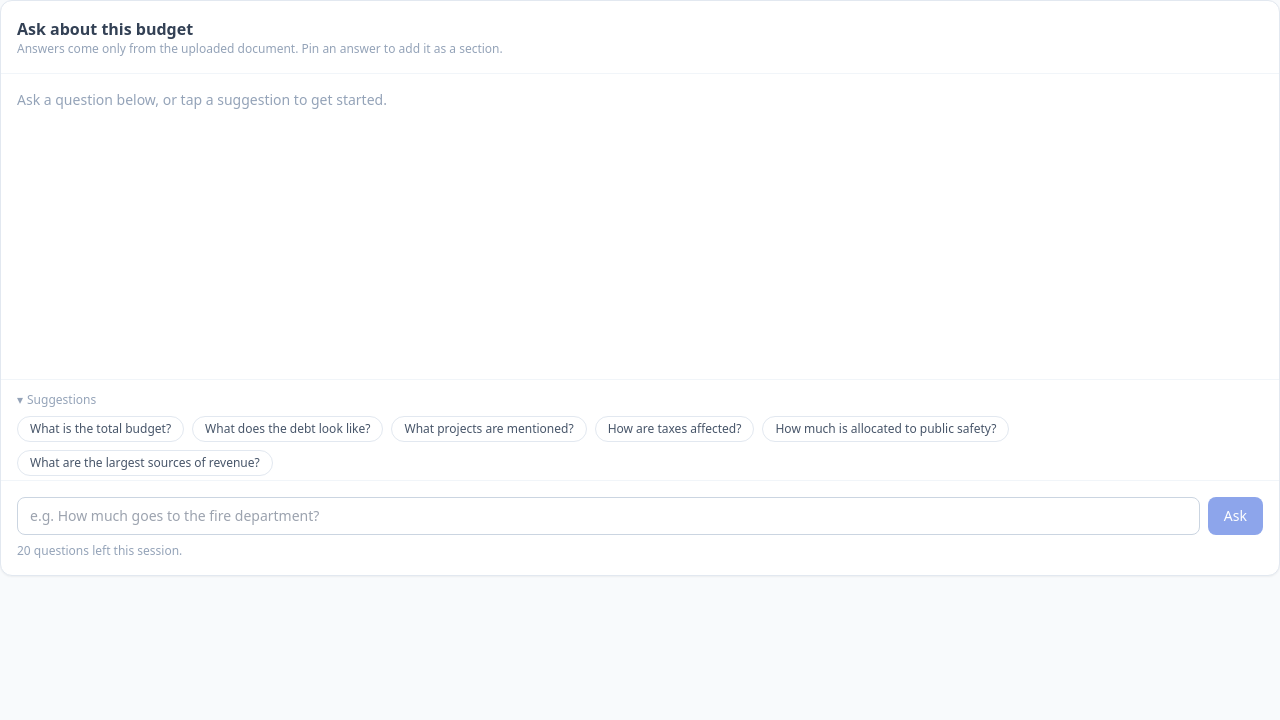
Scenario: ChatPanel › submits a question and renders the grounded answer
Type "What is the total?" into the field named "Ask a question about the budget" at (608,516), box [17, 497, 1200, 535]
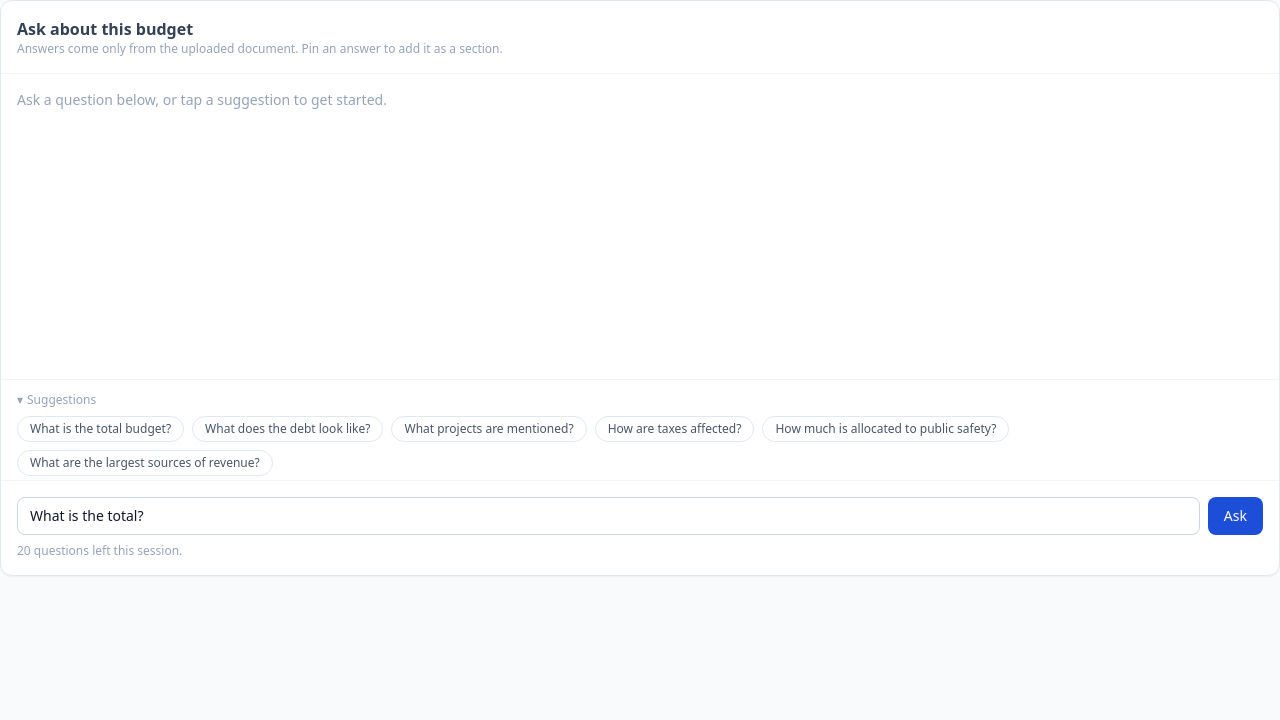
Click the button "Ask" at (1235,516), box [1208, 497, 1263, 535]
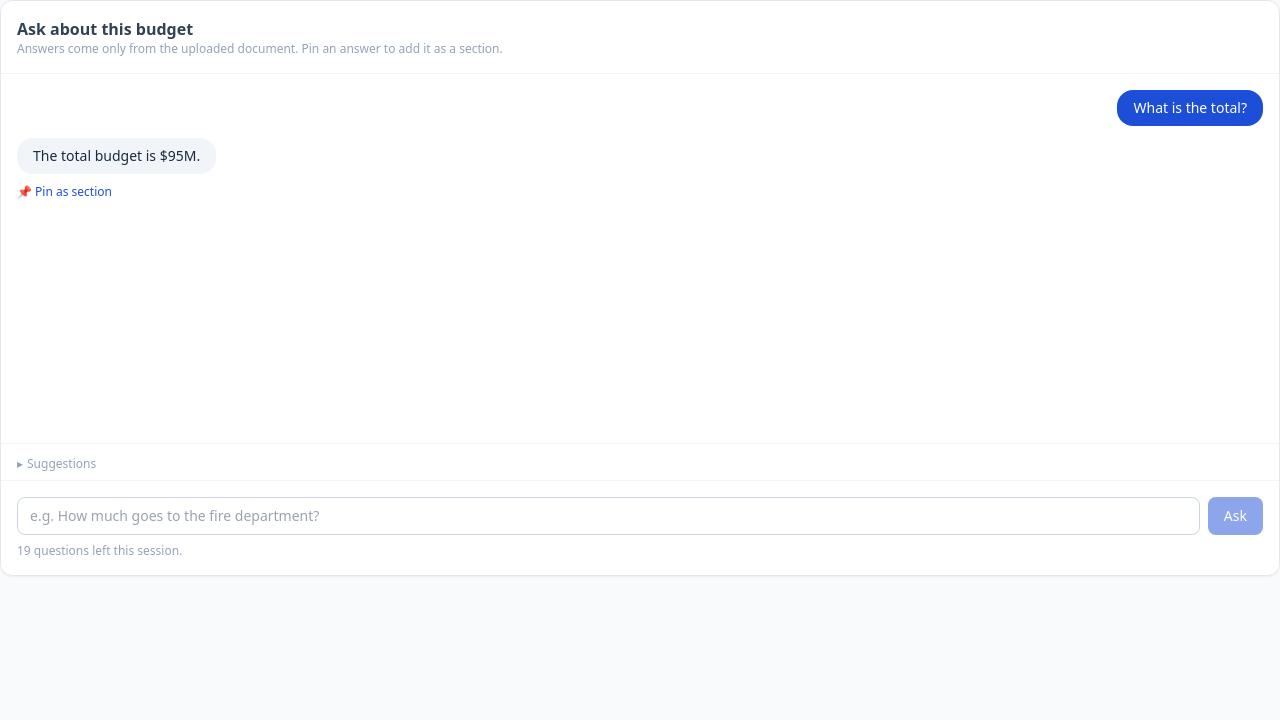
Check: the text "What is the total?" is shown, box [1118, 90, 1263, 126]
Check: the text "The total budget is $95M." is shown, box [17, 138, 216, 174]
